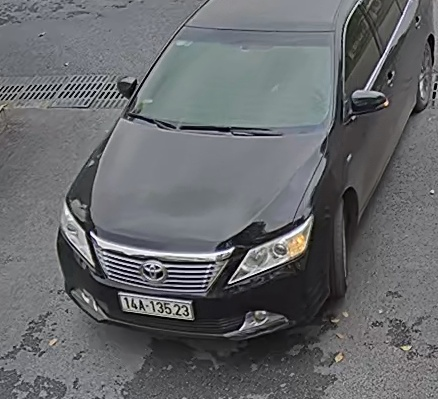vehicle plate: (116, 287, 199, 324)
